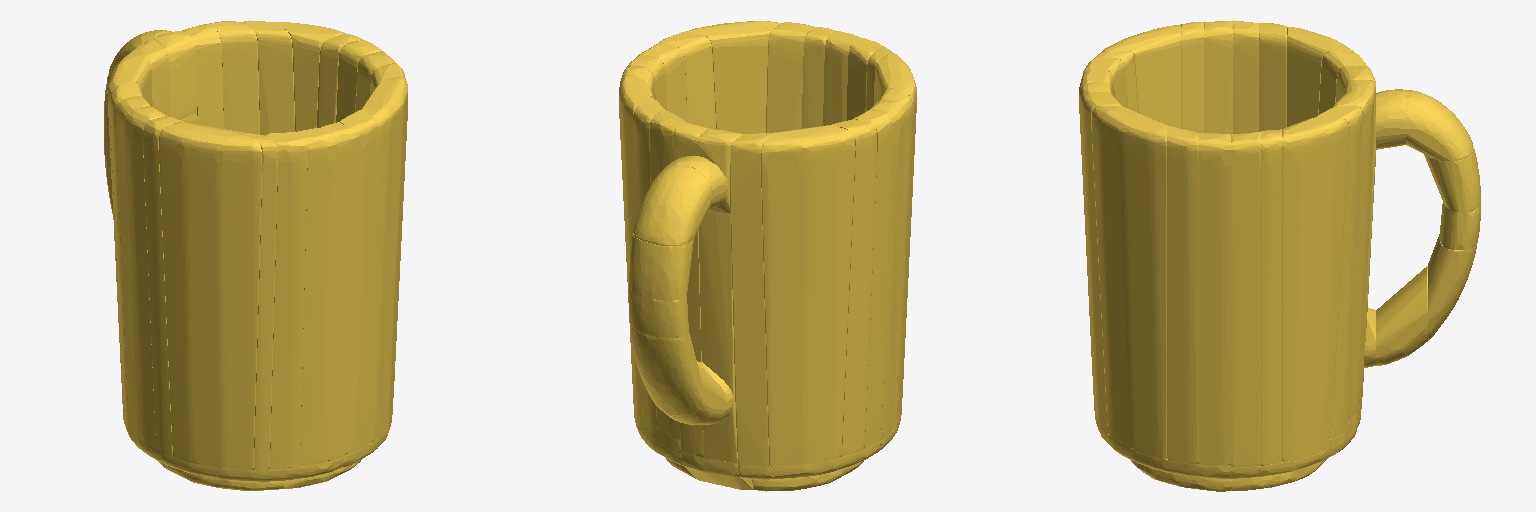
The robot description file, URDF, robot "617.urdf":
<?xml version="1.0" ?>
<robot name="617.urdf">
	<link name="baseLink">
		<inertial>
			<origin rpy="0 0 0" xyz="0 0 0"/>
				<mass value="0.1"/>
				<inertia ixx="6e-5" ixy="0" ixz="0" iyy="6e-5" iyz="0" izz="6e-5"/>
		</inertial>
		<visual>
			<origin rpy="0 0 0" xyz="0 0 0"/>
			<geometry>
				<mesh filename="35_decom_wt.obj" scale="0.86 0.86 1.15"/>
			</geometry>
			<material name="yellow">
				<color rgba="0.98 0.84 0.35 1"/>
			</material>
		</visual>
		<collision>
			<origin rpy="0 0 0" xyz="0 0 0"/>
			<geometry>
				<mesh filename="35_decom_wt.obj" scale="0.86 0.86 1.15"/>
			</geometry>
		</collision>
	</link>
</robot>

--- Facts derived from the render (not from the file) ---
The picture shows the robot from 3 angles, left to right: view 1: azimuth 30°, elevation 25°; view 2: azimuth 150°, elevation 25°; view 3: azimuth 270°, elevation 25°; orthographic projection.
Model 617.urdf with 1 links and 0 joints (none), rooted at baseLink, posed all joints at 0.
Links seen in each view (by area): view 1: baseLink; view 2: baseLink; view 3: baseLink.
Link boxes in pixels (x1,y1,x2,y2): baseLink: [104, 20, 407, 490]; baseLink: [619, 21, 916, 491]; baseLink: [1079, 20, 1480, 491].
Bounding box of the posed robot: 0.1186 × 0.1603 × 0.1625 m (x, y, z).
1 mesh visuals loaded from 1 distinct referenced files (1 OBJ).